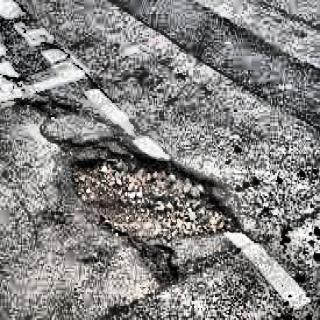pothole: (70, 139, 244, 241)
